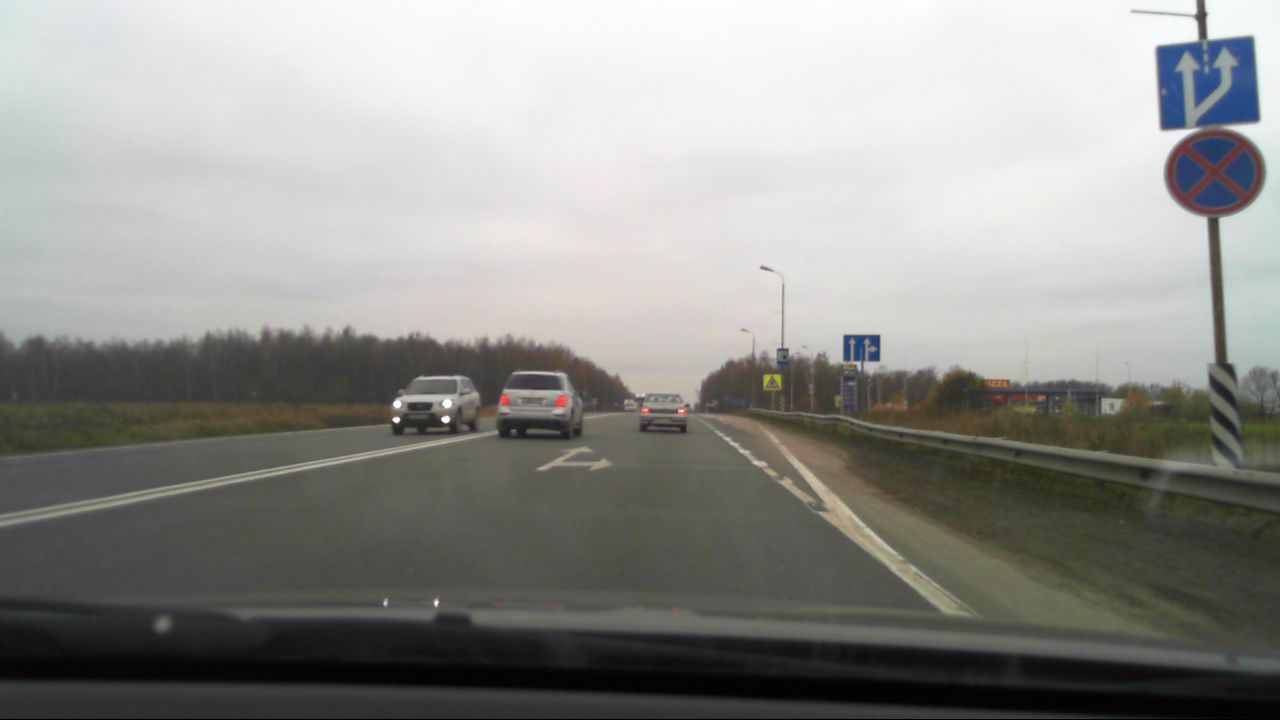No Parking: (1164, 133, 1267, 218)
